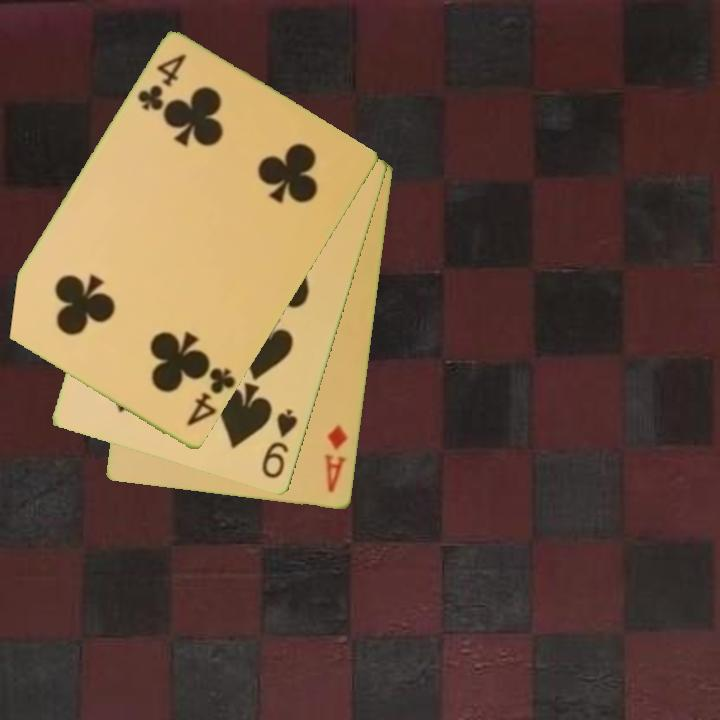4c: (134, 50, 190, 115), (183, 364, 238, 430)
9s: (258, 406, 301, 482)
Ad: (321, 421, 351, 496)
